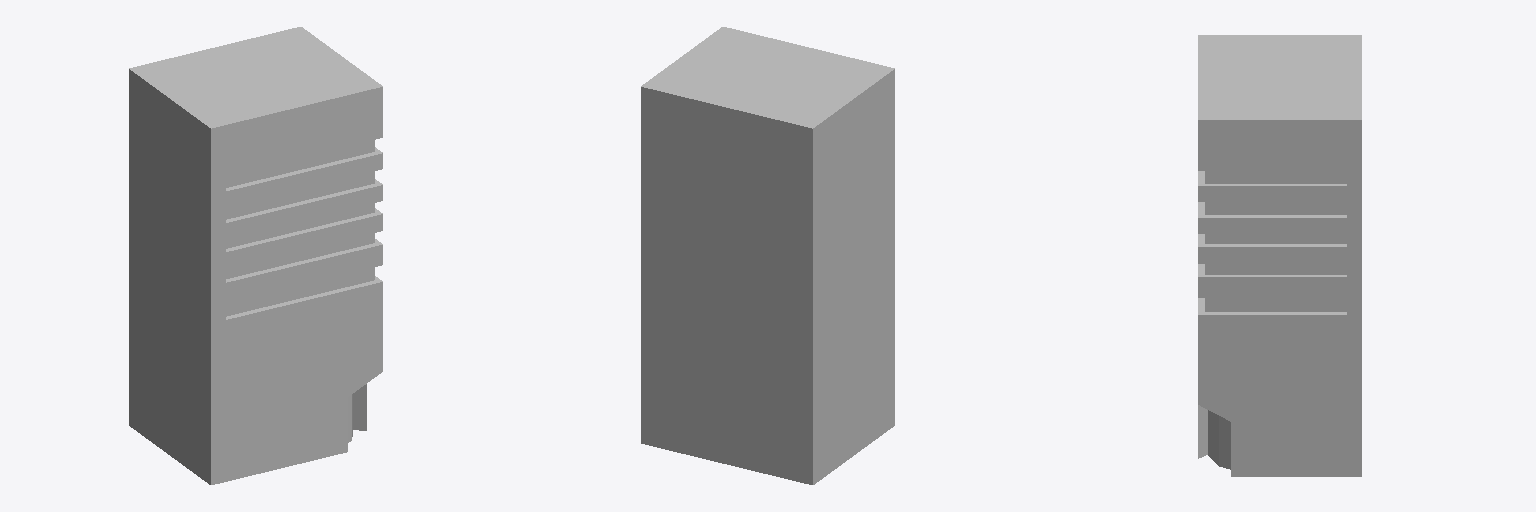
Rendered from Building9.obj.
The picture shows the model from 3 angles: view 1: azimuth 30°, elevation 25°; view 2: azimuth 150°, elevation 25°; view 3: azimuth 270°, elevation 25°; orthographic projection.
Parts seen in each view (by area): view 1: Building9_Cube; view 2: Building9_Cube; view 3: Building9_Cube.
Part boxes in pixels (x1,y1,x2,y2): Building9_Cube: (129,27,382,484); Building9_Cube: (641,27,894,484); Building9_Cube: (1198,35,1361,476).
Size of the model in its own units: 7.5 by 14.83 by 6.19.